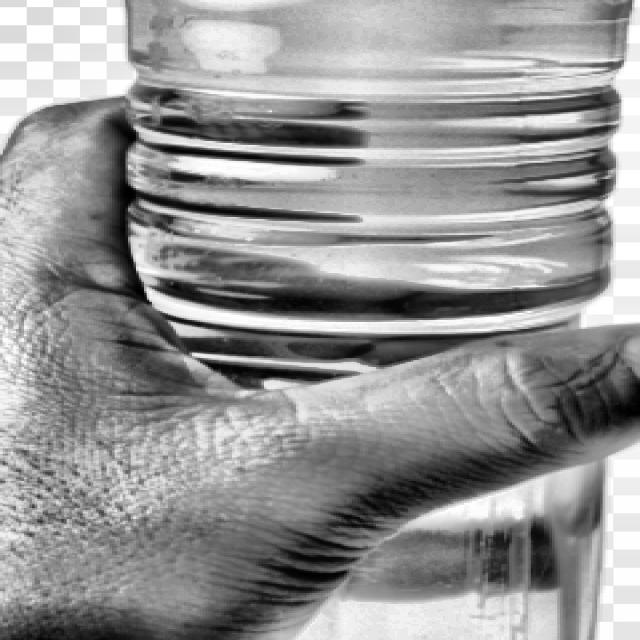bottle: (117, 0, 634, 394), (293, 463, 611, 640)
